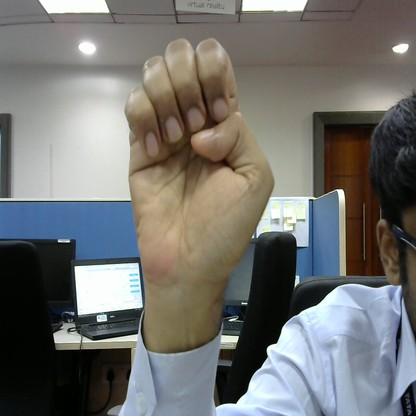e: (116, 33, 277, 285)
